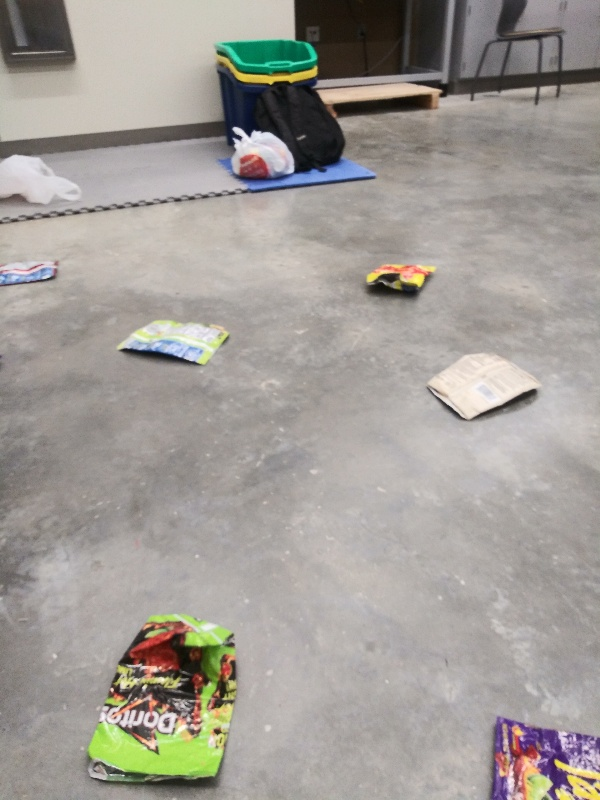bag: (77, 608, 244, 787), (479, 711, 597, 800), (423, 350, 548, 425), (112, 316, 238, 372), (359, 259, 439, 303), (1, 253, 61, 289)
